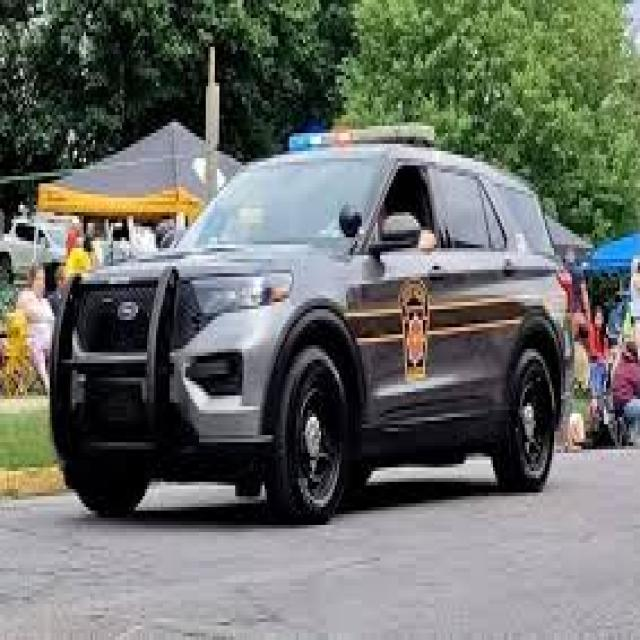cop: (45, 118, 576, 519)
